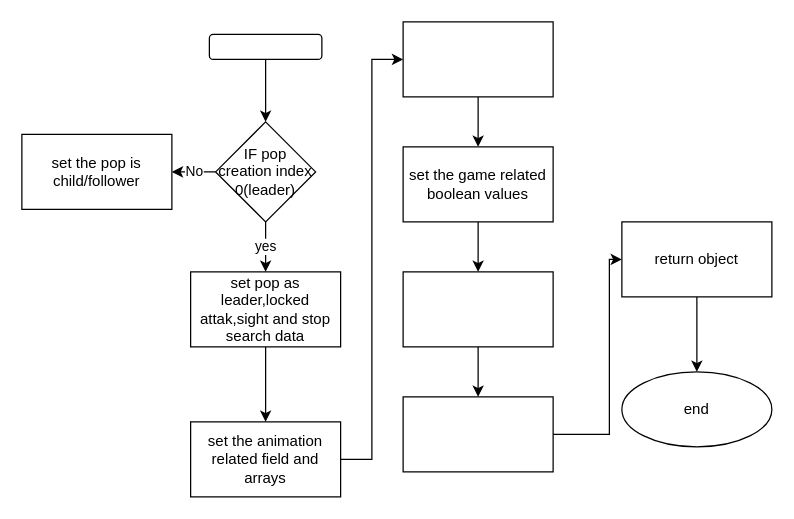
The diagram is 794 pixels wide and 519 high, and some of its shapes have lost their labels. Each missing label, with the box of its shape:
set the pop status: (402, 271, 553, 347)
set the target of pop grp and path value: (402, 396, 553, 472)
set the visited card array,family person array: (402, 21, 553, 97)
start: (208, 33, 322, 59)
